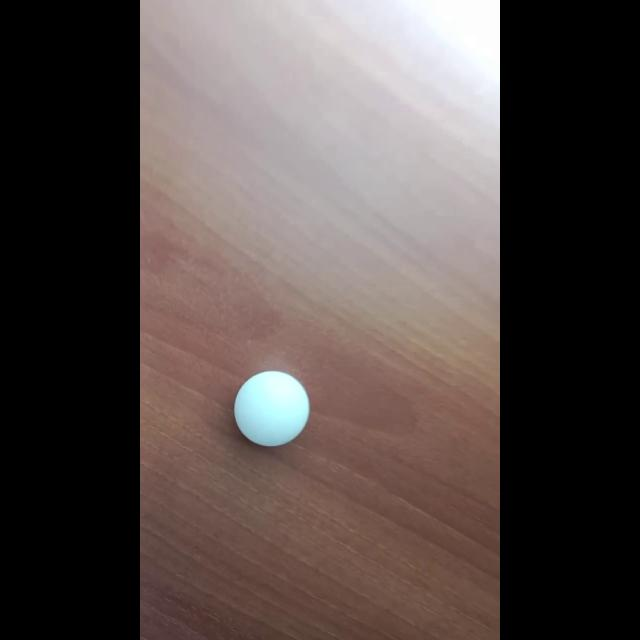white ball: (233, 369, 310, 446)
